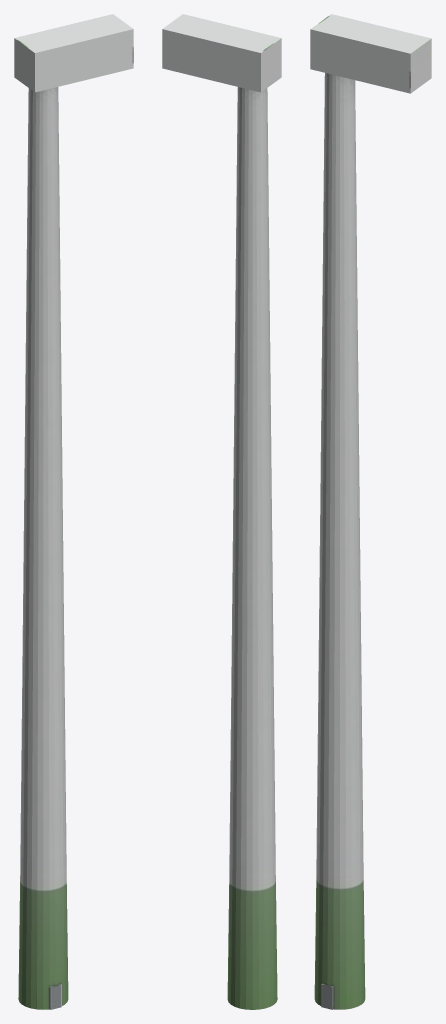
File: wiatrak.glb
3 renders of one model, left to right at view 1: azimuth 30°, elevation 25°; view 2: azimuth 150°, elevation 25°; view 3: azimuth 330°, elevation 25°, orthographic.
Visible parts, largest first — view 1: wiatrak; view 2: wiatrak; view 3: wiatrak.
Boxes of the visible parts, left/top/right/bottom form: wiatrak: left=14, top=14, right=133, bottom=1009; wiatrak: left=162, top=14, right=281, bottom=1009; wiatrak: left=310, top=14, right=431, bottom=1009.
Size of the model in its own units: 10.8 by 97.4 by 4.65.
Materials: 1 (1 with a texture image).
